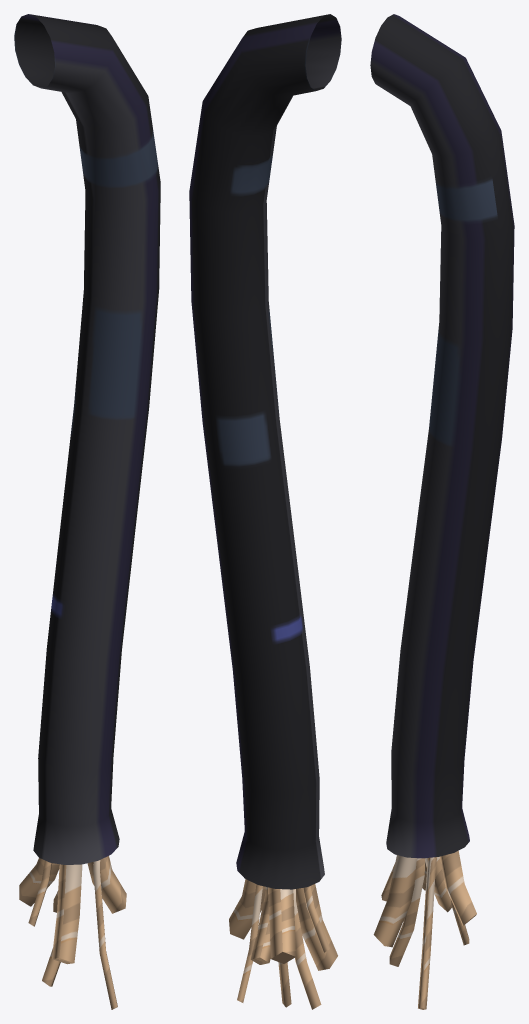
File: SM_Wire_Small_Broken.fbx
3 views of the same model, side by side, from view 1: azimuth 30°, elevation 25°; view 2: azimuth 150°, elevation 25°; view 3: azimuth 330°, elevation 25° (orthographic). The views are drawn at different scales.
Visible parts, largest first — view 1: Sm_Wire_Small_Broken; view 2: Sm_Wire_Small_Broken; view 3: Sm_Wire_Small_Broken.
Part boxes in pixels (left/top/right/bottom): Sm_Wire_Small_Broken: left=14, top=14, right=160, bottom=1009; Sm_Wire_Small_Broken: left=189, top=14, right=341, bottom=1009; Sm_Wire_Small_Broken: left=370, top=14, right=514, bottom=1009.
Bounding box in the file's own units: 6.32 × 0.5951 × 0.8652.
Materials: 1 (1 with a texture image).
